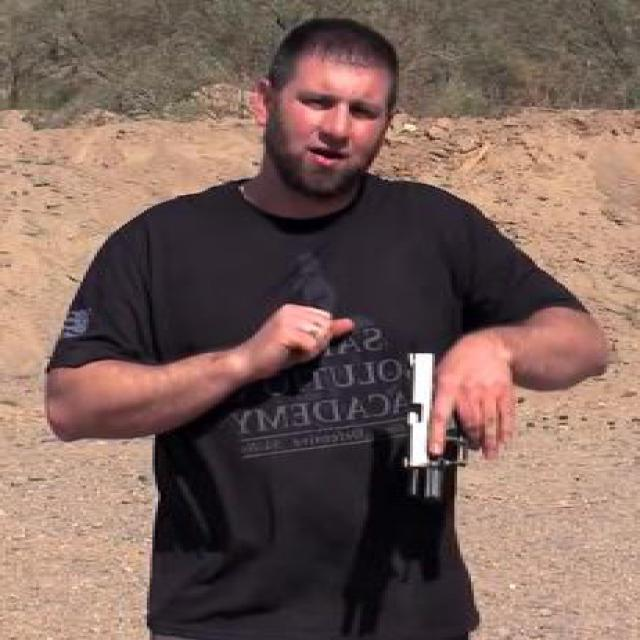Gun: (404, 349, 516, 496)
